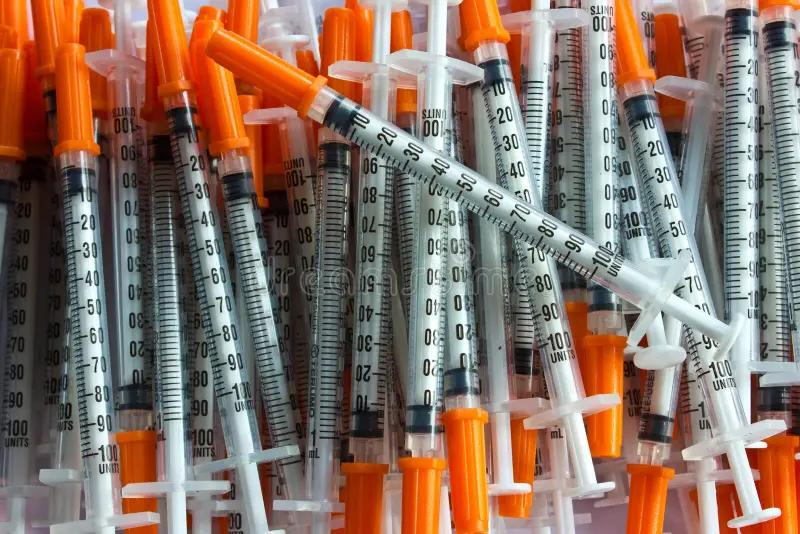Syringe: (208, 30, 735, 355), (148, 0, 296, 531), (191, 21, 302, 498), (51, 44, 157, 533), (123, 100, 229, 533), (140, 20, 217, 481), (87, 0, 155, 484), (274, 128, 351, 533), (399, 183, 488, 531), (617, 0, 713, 313), (514, 239, 612, 493), (0, 48, 49, 533), (341, 153, 394, 533), (475, 221, 536, 517), (245, 108, 316, 331), (656, 2, 723, 227), (723, 0, 758, 420), (245, 124, 308, 357), (39, 179, 81, 523), (759, 0, 799, 360), (677, 0, 723, 308), (751, 71, 794, 372), (762, 1, 799, 316), (581, 0, 620, 253), (627, 360, 681, 532), (542, 27, 586, 232), (617, 123, 659, 267), (0, 46, 24, 264), (671, 457, 730, 532), (394, 171, 416, 316), (650, 3, 686, 77), (633, 0, 656, 67), (0, 0, 28, 47)
